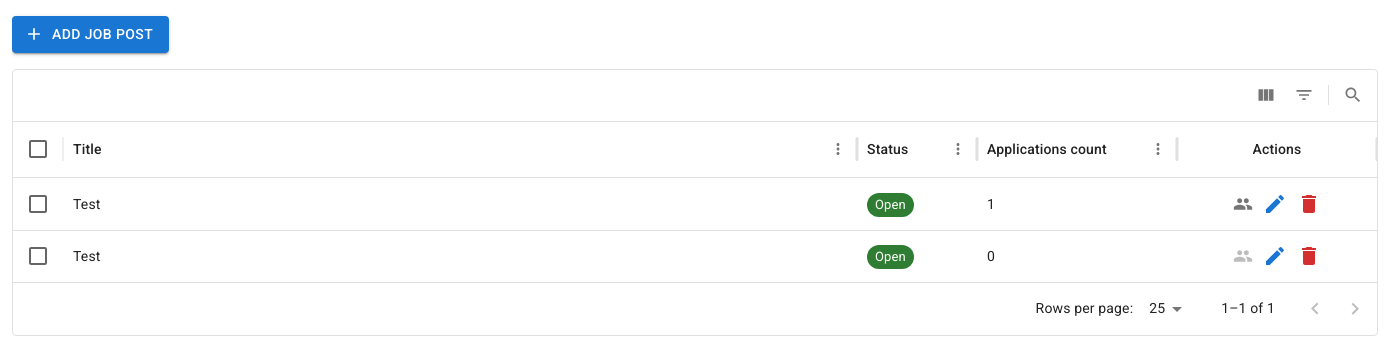
Test: JobPostsTable › should show 'Delete job posts' button when selecting multiple rows
This screenshot has width=1390, height=353.
Expected: the table named "job posts table" is shown, [13, 122, 1377, 282]
What coordinates should you click on to do the following:
click the checkbox named "select row"
I would click on:
 (38, 204)
Its box is [26, 192, 50, 216].
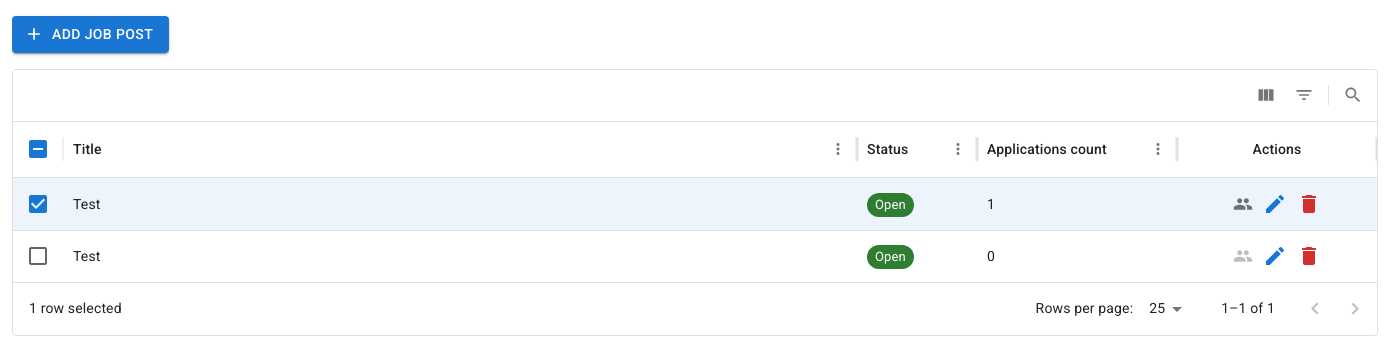
What coordinates should you click on to do the following:
click the checkbox named "select row"
I would click on:
 (38, 256)
Its box is [26, 244, 50, 268].
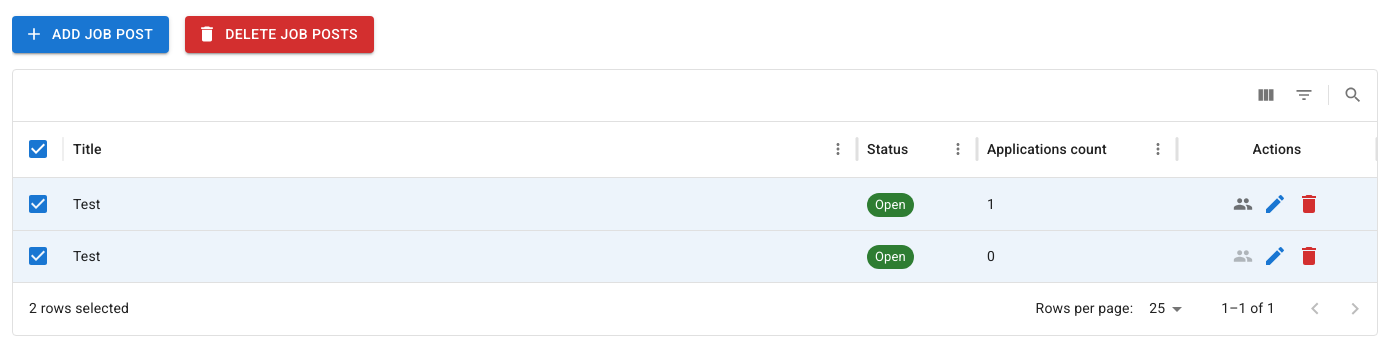
Result: the button "Delete job posts" is shown at [185, 16, 374, 52]
